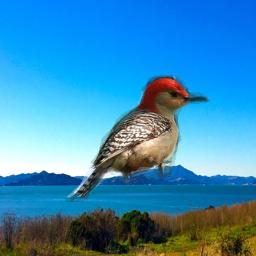Woodpecker: (65, 74, 212, 202)
